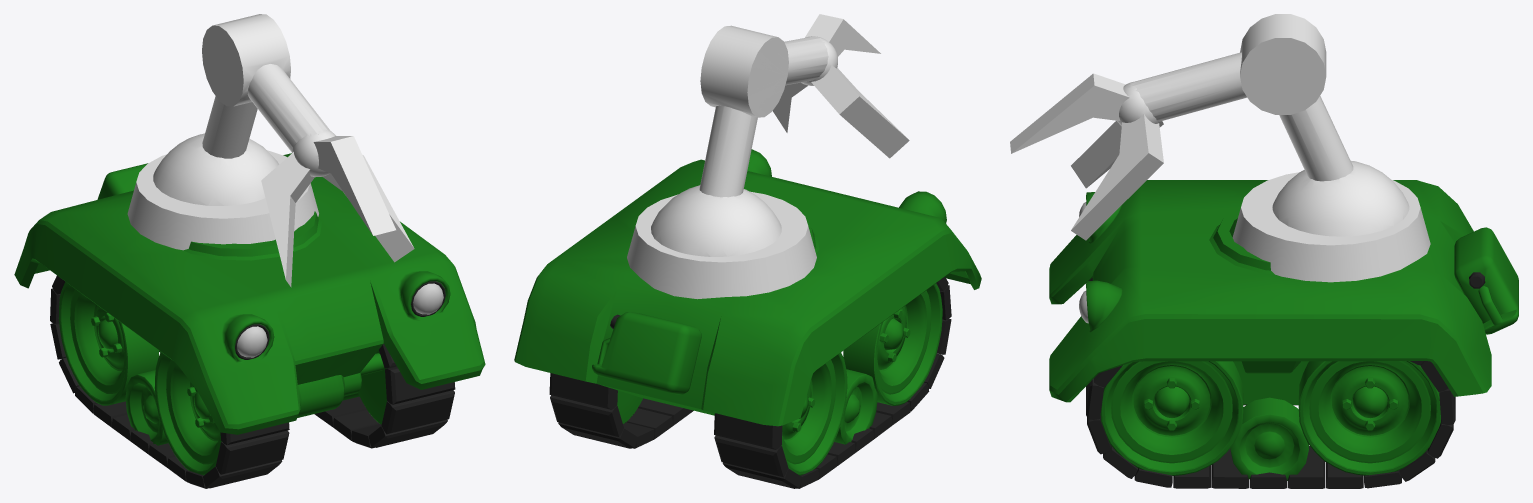
File: Engineer.FBX
3 renders of one model, left to right at view 1: azimuth 30°, elevation 25°; view 2: azimuth 150°, elevation 25°; view 3: azimuth 270°, elevation 25°, orthographic. The views are drawn at different scales.
Parts seen in each view (by area): view 1: TankChassis, Line001, TankTracksRight, TankTracksLeft; view 2: TankChassis, Line001, TankTracksRight, TankTracksLeft; view 3: TankChassis, Line001, TankTracksLeft.
Boxes of the visible parts, x1=… form: TankChassis: x1=14, y1=153, x2=485, y2=445; Line001: x1=127, y1=14, x2=414, y2=287; TankTracksRight: x1=50, y1=275, x2=289, y2=488; TankTracksLeft: x1=314, y1=344, x2=455, y2=448; TankChassis: x1=514, y1=149, x2=981, y2=444; Line001: x1=627, y1=14, x2=909, y2=299; TankTracksRight: x1=714, y1=277, x2=951, y2=488; TankTracksLeft: x1=549, y1=373, x2=693, y2=448; TankChassis: x1=1049, y1=180, x2=1518, y2=480; Line001: x1=1010, y1=14, x2=1430, y2=282; TankTracksLeft: x1=1086, y1=361, x2=1455, y2=488.
Size of the model in its own units: 132 by 175 by 198.
